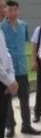boots: (6, 126, 14, 137), (0, 134, 13, 138)
hard-hat: (0, 2, 8, 15)
